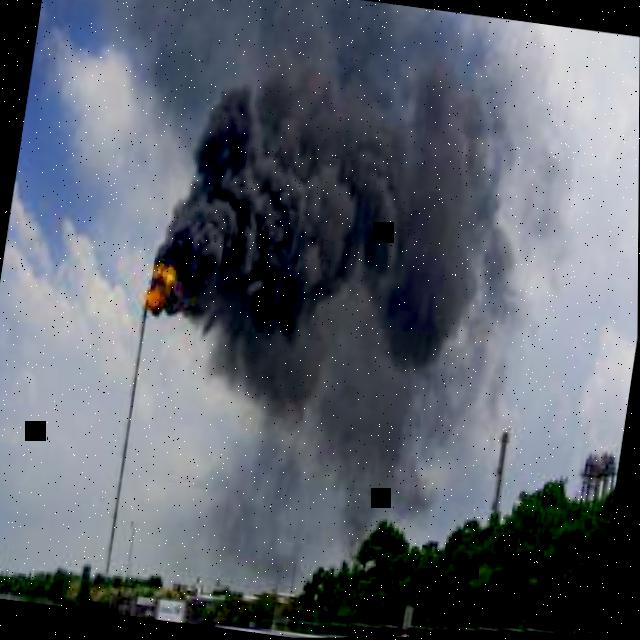fire: (143, 264, 176, 317)
smoke: (89, 0, 577, 587)
